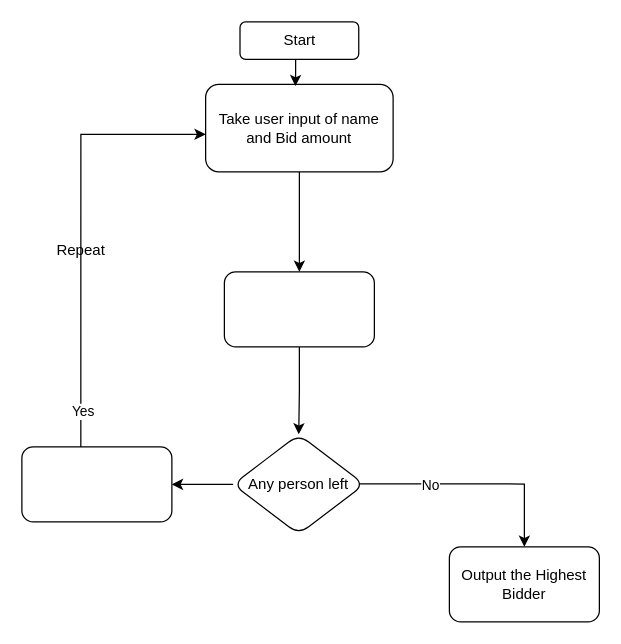
This 621x644 diagram has some shape labels left out. The shapes that lost their labels are listed below. From the top down, each one's centre as x and y in pixels, then its label:
[298,309]: Store it in dictionary
[96,484]: Clear Screen
